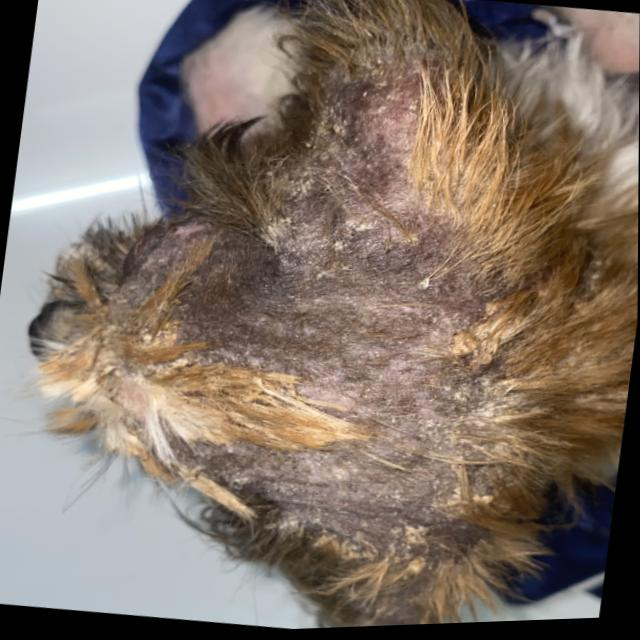demodicosis: (205, 211, 502, 418), (242, 423, 464, 559), (293, 47, 439, 216)
